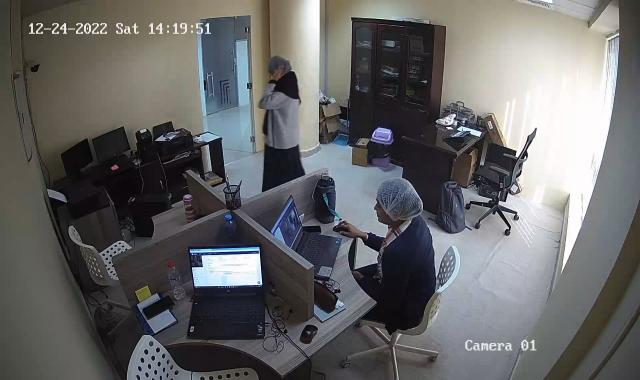hairnet: (375, 175, 425, 229), (264, 52, 292, 79)
